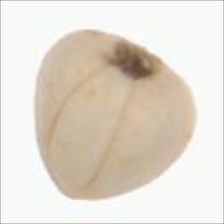L5: (45, 67, 135, 197), (104, 37, 171, 80)
L6: (33, 28, 198, 201)
